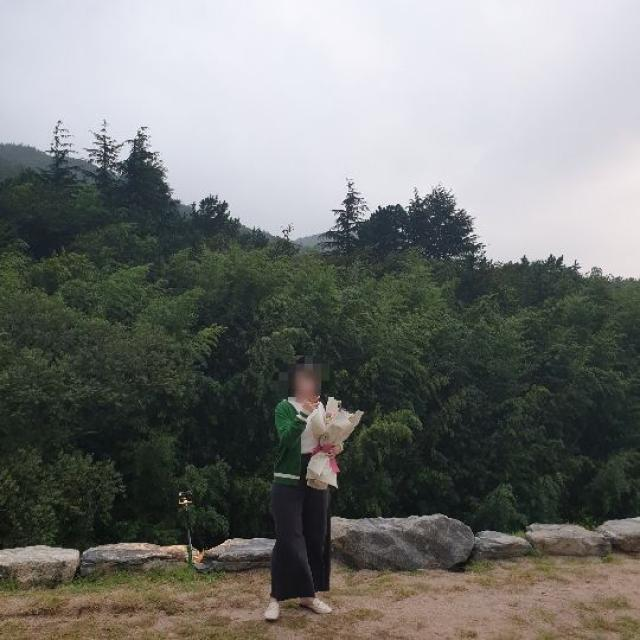cardigan: (272, 396, 319, 483)
denimpants: (268, 471, 332, 602)
